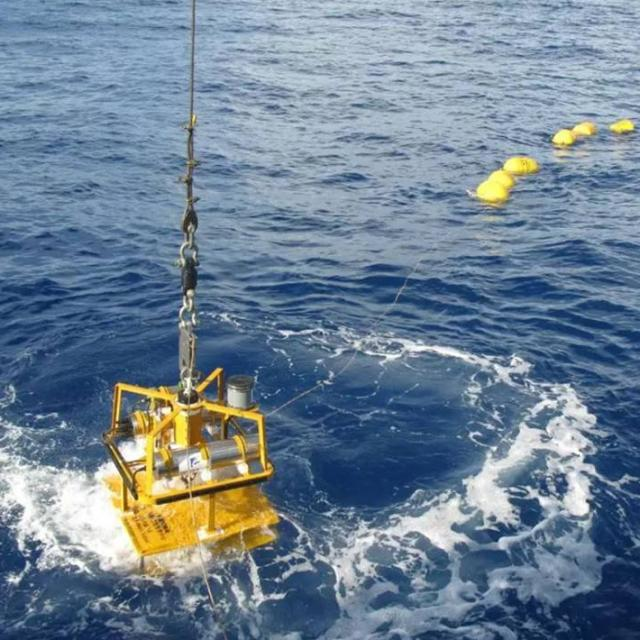buoy: (86, 359, 282, 559)
